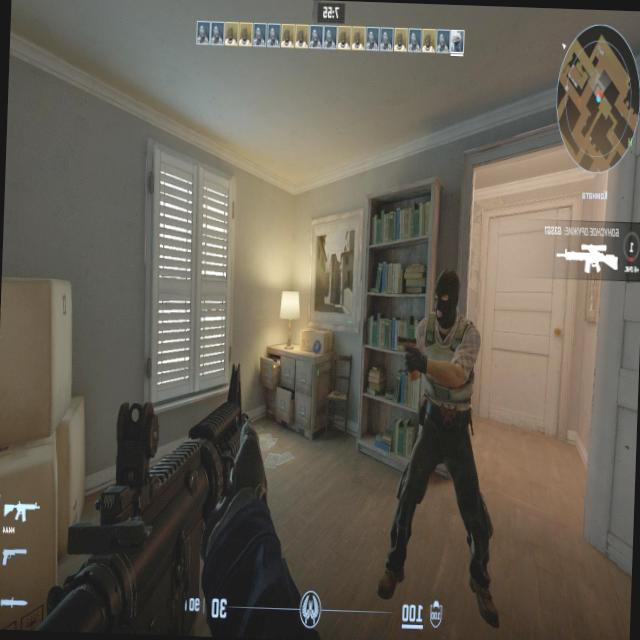T: (408, 278, 470, 556)
T_heat: (436, 281, 458, 324)
